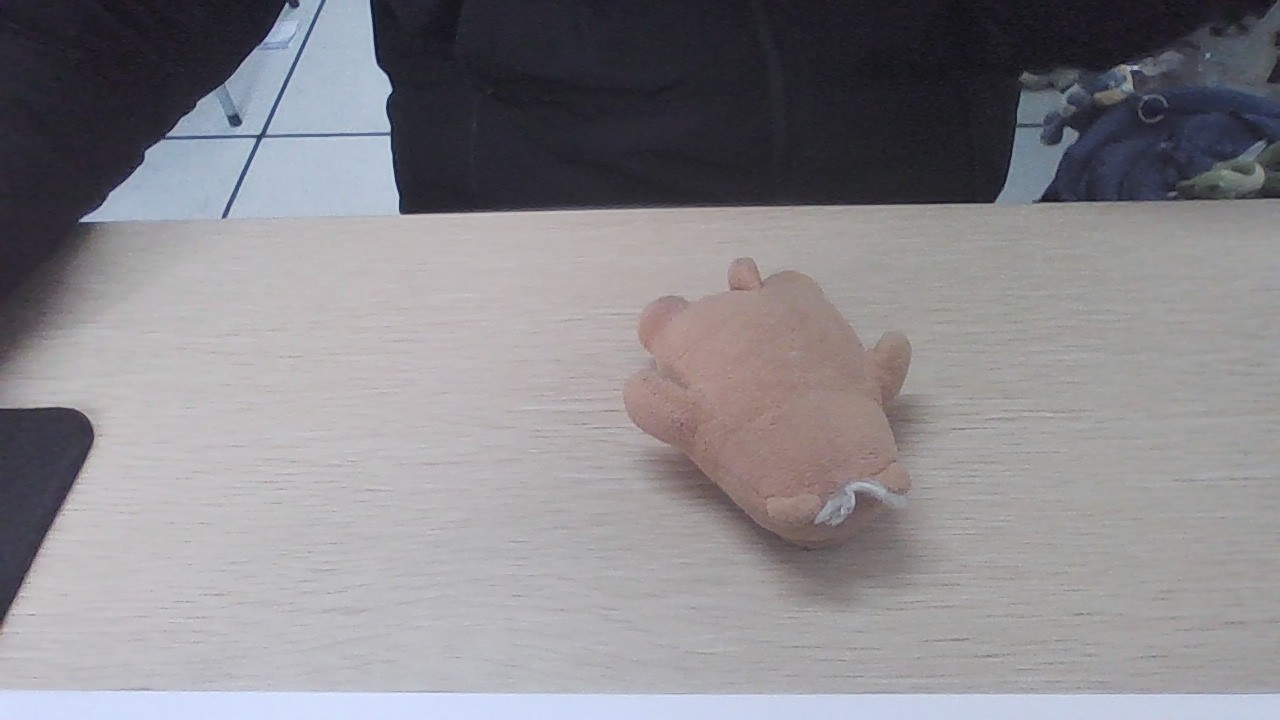KHS-doll: (644, 280, 902, 533)
